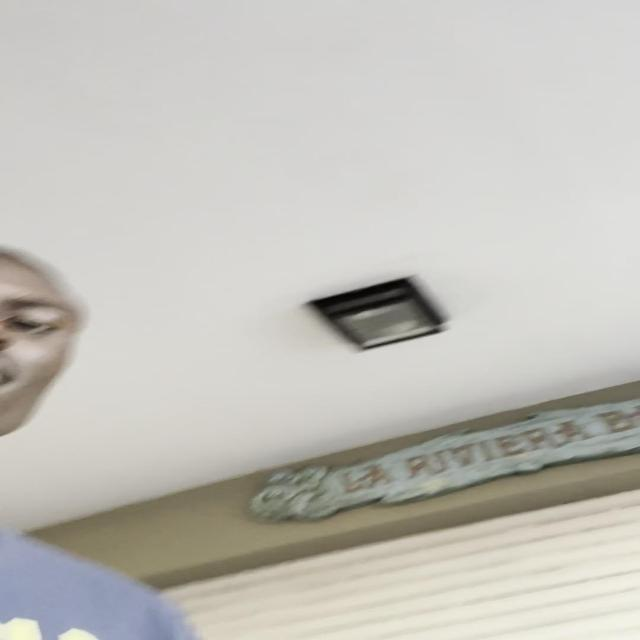NO-Mask: (0, 246, 88, 448)
